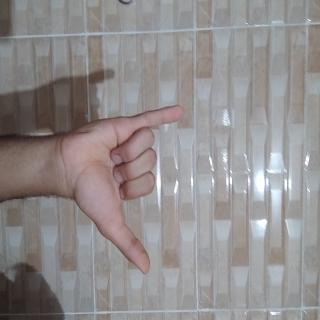YA: (71, 178, 207, 320)
